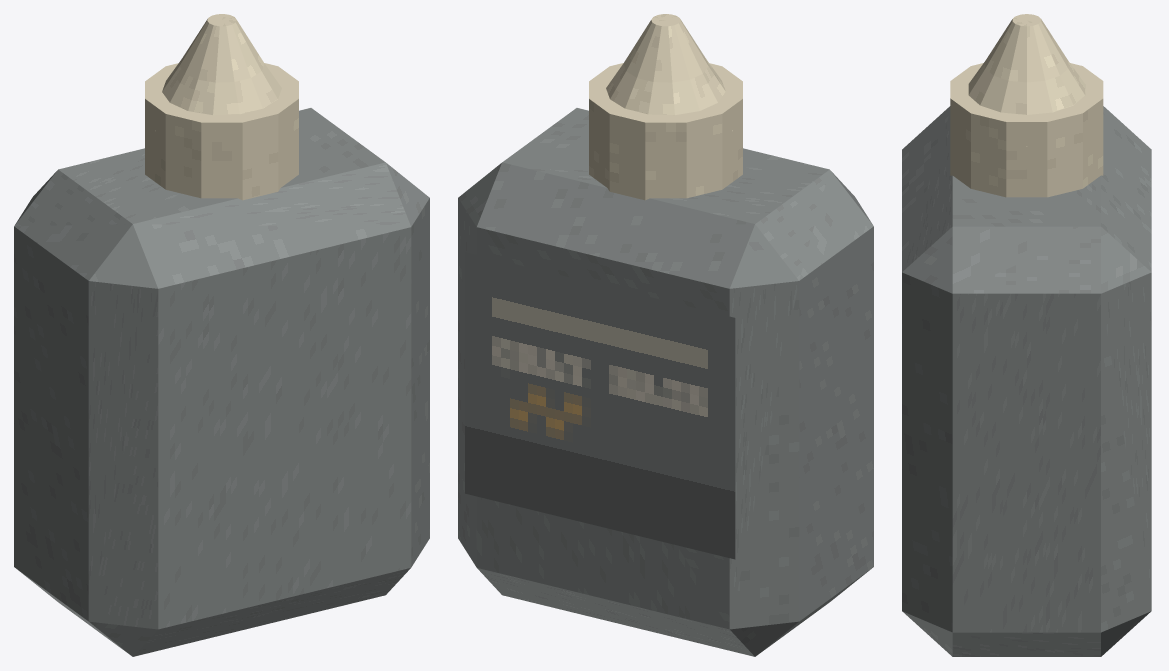
The model's file is hair_dye_gray.glb.
The picture shows the model from 3 angles, left to right: view 1: azimuth 30°, elevation 25°; view 2: azimuth 150°, elevation 25°; view 3: azimuth 270°, elevation 25°; orthographic projection.
Visible parts, largest first — view 1: block_squeeze bottle, block_pointed dispenser, block_dispenser tip; view 2: block_squeeze bottle, block_salon dye label, block_pointed dispenser, block_dispenser tip; view 3: block_squeeze bottle, block_pointed dispenser, block_dispenser tip.
Boxes of the visible parts, x1,y1,x2,y2 form: block_squeeze bottle: [14, 108, 429, 656]; block_pointed dispenser: [145, 63, 298, 200]; block_dispenser tip: [155, 14, 281, 130]; block_squeeze bottle: [458, 108, 873, 656]; block_salon dye label: [465, 252, 735, 559]; block_pointed dispenser: [589, 63, 742, 200]; block_dispenser tip: [606, 14, 732, 130]; block_squeeze bottle: [902, 106, 1151, 656]; block_pointed dispenser: [950, 63, 1103, 197]; block_dispenser tip: [968, 14, 1085, 146].
Bounding box in the file's own units: 0.0742 × 0.1203 × 0.0479.
1 material, 1 textured.
